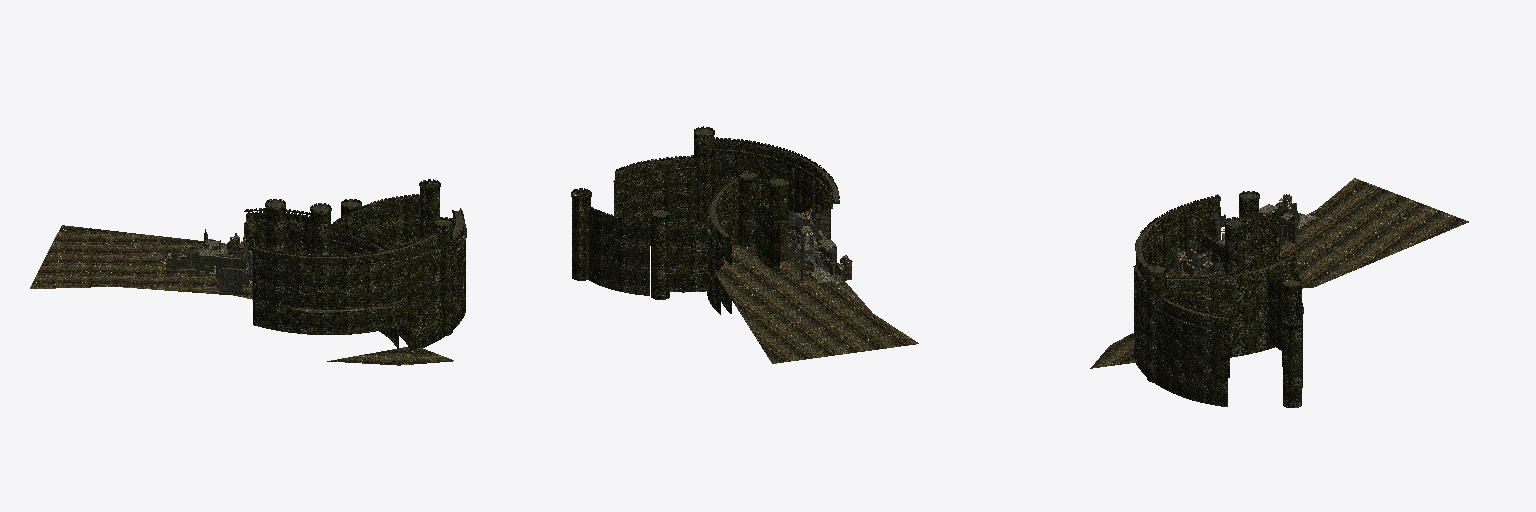
3 renders of one model, left to right at view 1: azimuth 30°, elevation 25°; view 2: azimuth 150°, elevation 25°; view 3: azimuth 270°, elevation 25°, orthographic.
Parts seen in each view (by area): view 1: mesh0, mesh6, mesh3, mesh2, mesh1; view 2: mesh0, mesh6, mesh1, mesh3, mesh2; view 3: mesh0, mesh6, mesh1.
Part boxes in pixels (x1,y1,x2,y2): mesh0: (244,179,466,350); mesh6: (30,225,453,365); mesh3: (171,233,251,280); mesh2: (187,234,306,292); mesh1: (250,201,463,272); mesh0: (571,126,839,314); mesh6: (715,203,918,363); mesh1: (616,129,838,236); mesh3: (784,219,847,280); mesh2: (743,213,830,280); mesh0: (1133,191,1303,407); mesh6: (1090,178,1468,368); mesh1: (1135,193,1300,320).
Size of the model in its own units: 352 by 112 by 306.
Materials: 14 (14 with a texture image).